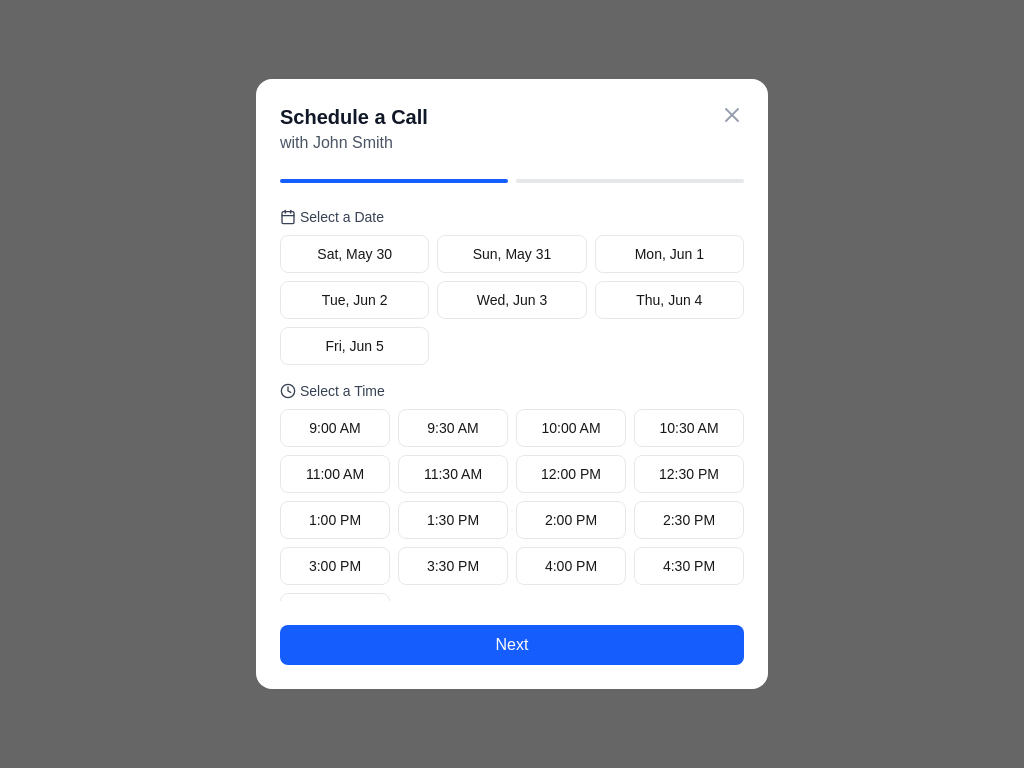
Test: ScheduleCallModal › Time step interactions › shows error when clicking Next without selecting date and time
This screenshot has width=1024, height=768.
Click the button "Next" at (512, 645), box [280,625,744,665]
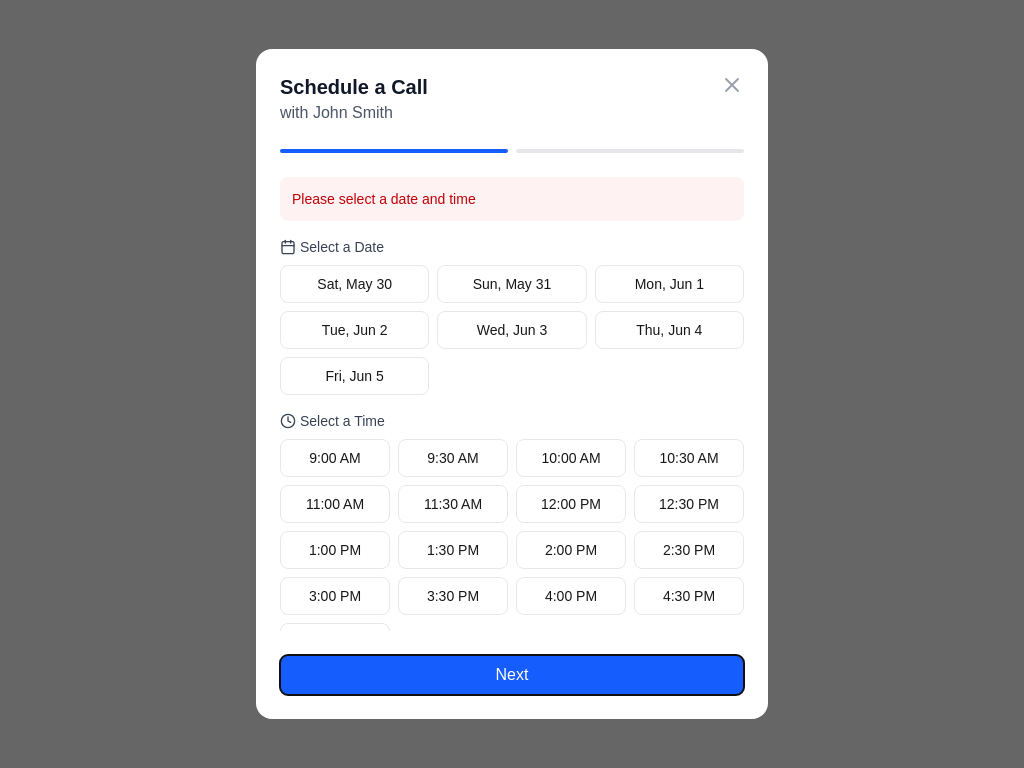
Expected: the message reads "Please select a date and time", [292,191,476,207]
